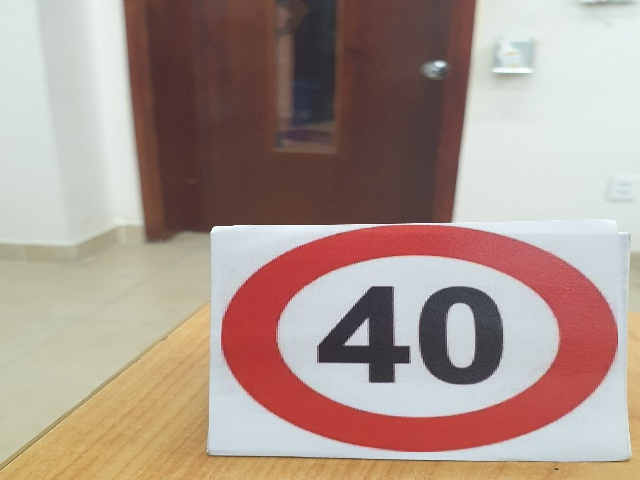Limit 40: (223, 225, 621, 455)
